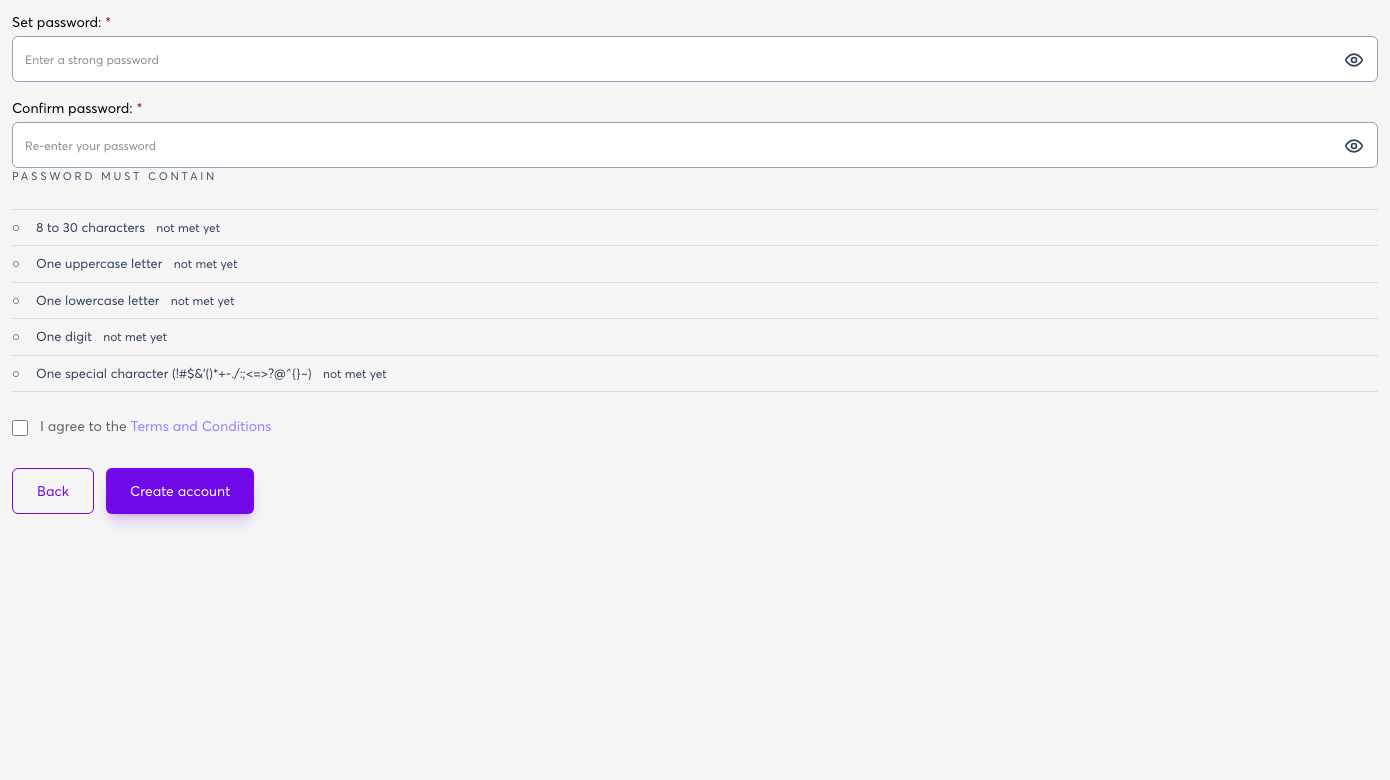
Test: shows password and confirmation errors while typing before blur or submission
Type "weak" into the password field labelled "Set password:" at (695, 59), box [12, 36, 1378, 82]
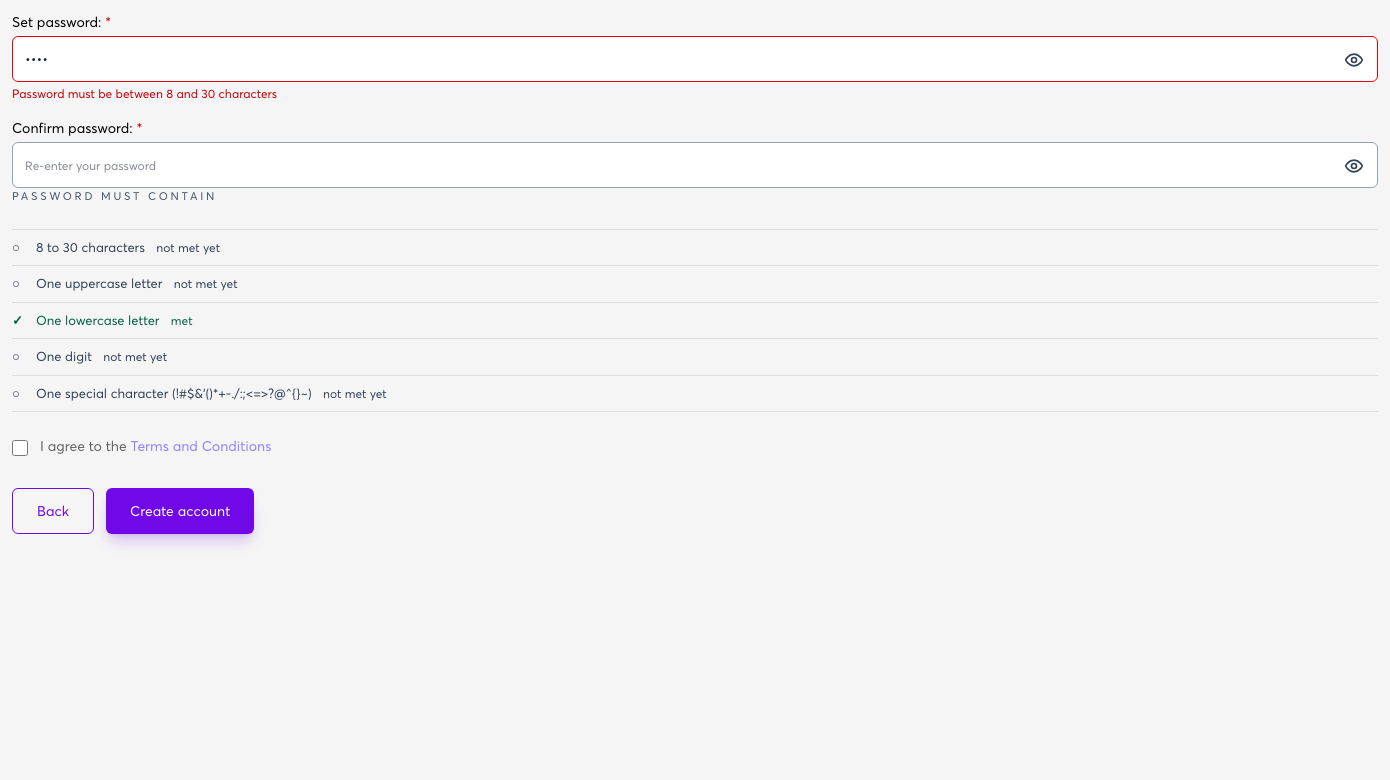
Now the message shows "between 8 and 30", box [12, 86, 277, 101]
Type "StrongPass1!" into the password field labelled "Set password:" at (695, 59), box [12, 36, 1378, 82]
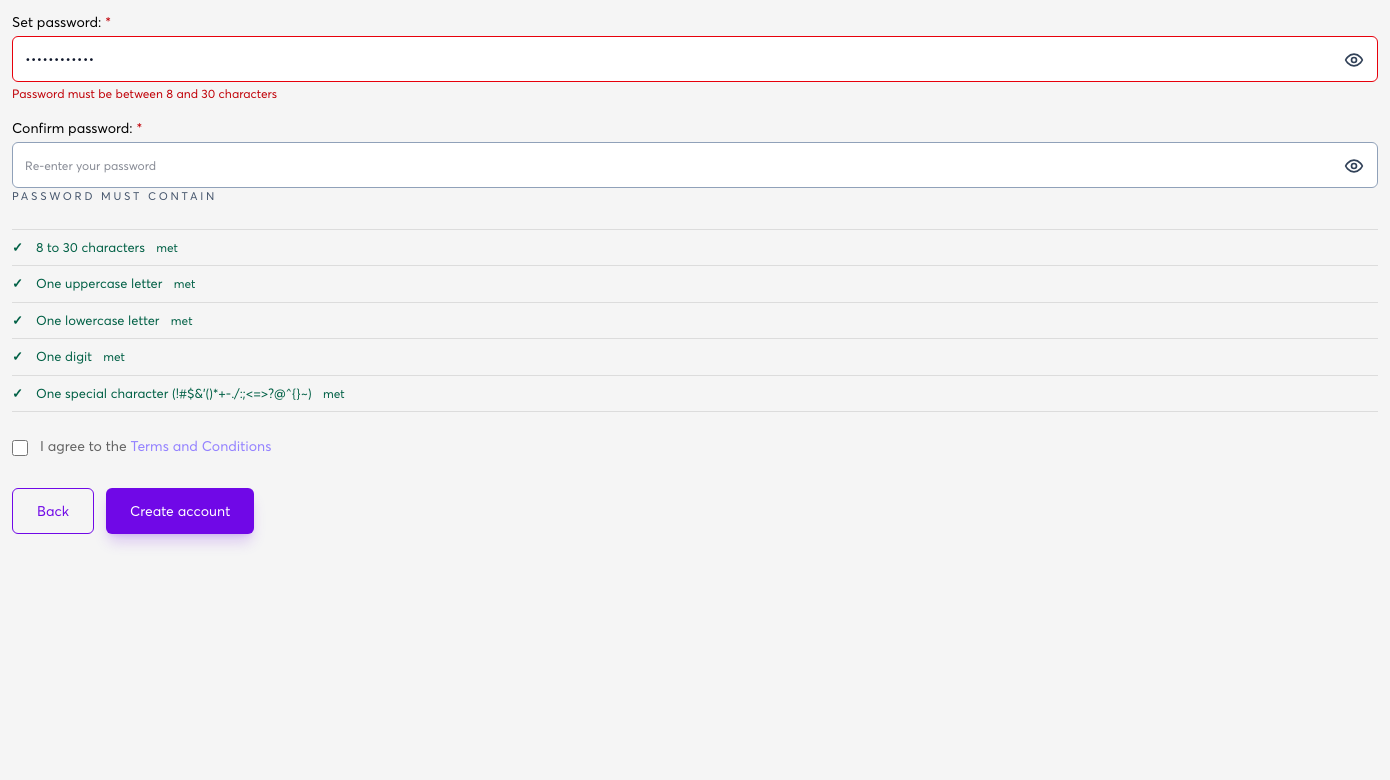
Type "different" into the password field labelled "Confirm password:" at (695, 165), box [12, 142, 1378, 188]
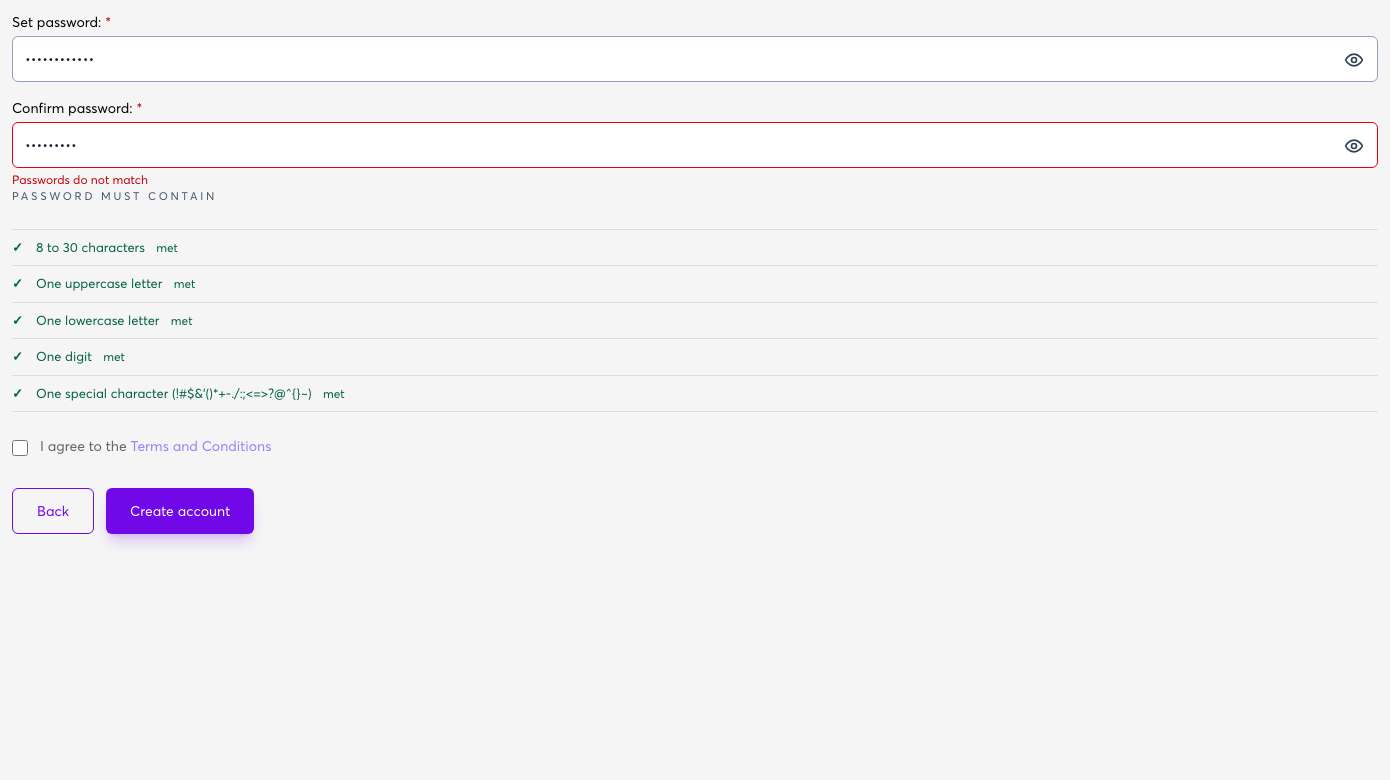
Now the message reads "Passwords do not match", box [12, 172, 148, 187]
